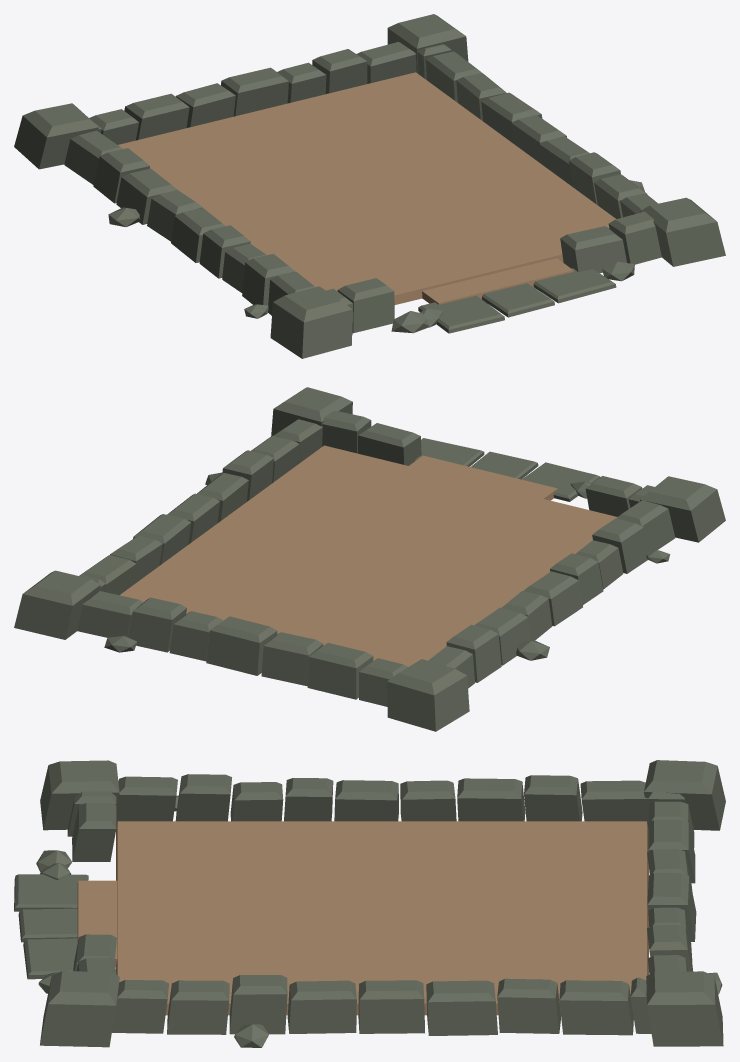
The model's file is cattle-shelter-foundation.glb.
3 renders of one model, top to bottom at view 1: azimuth 30°, elevation 25°; view 2: azimuth 150°, elevation 25°; view 3: azimuth 270°, elevation 25°, orthographic. The views are drawn at different scales.
Parts seen in each view (by area): view 1: floor, stone_footing; view 2: stone_footing, floor; view 3: stone_footing, floor.
Boxes of the visible parts, bbox=[...] form: floor: bbox=[118, 72, 616, 304]; stone_footing: bbox=[14, 14, 725, 358]; stone_footing: bbox=[14, 387, 725, 731]; floor: bbox=[120, 445, 617, 666]; stone_footing: bbox=[14, 760, 725, 1047]; floor: bbox=[77, 821, 648, 1015].
Size of the model in its own units: 6.01 by 0.52 by 7.17.
